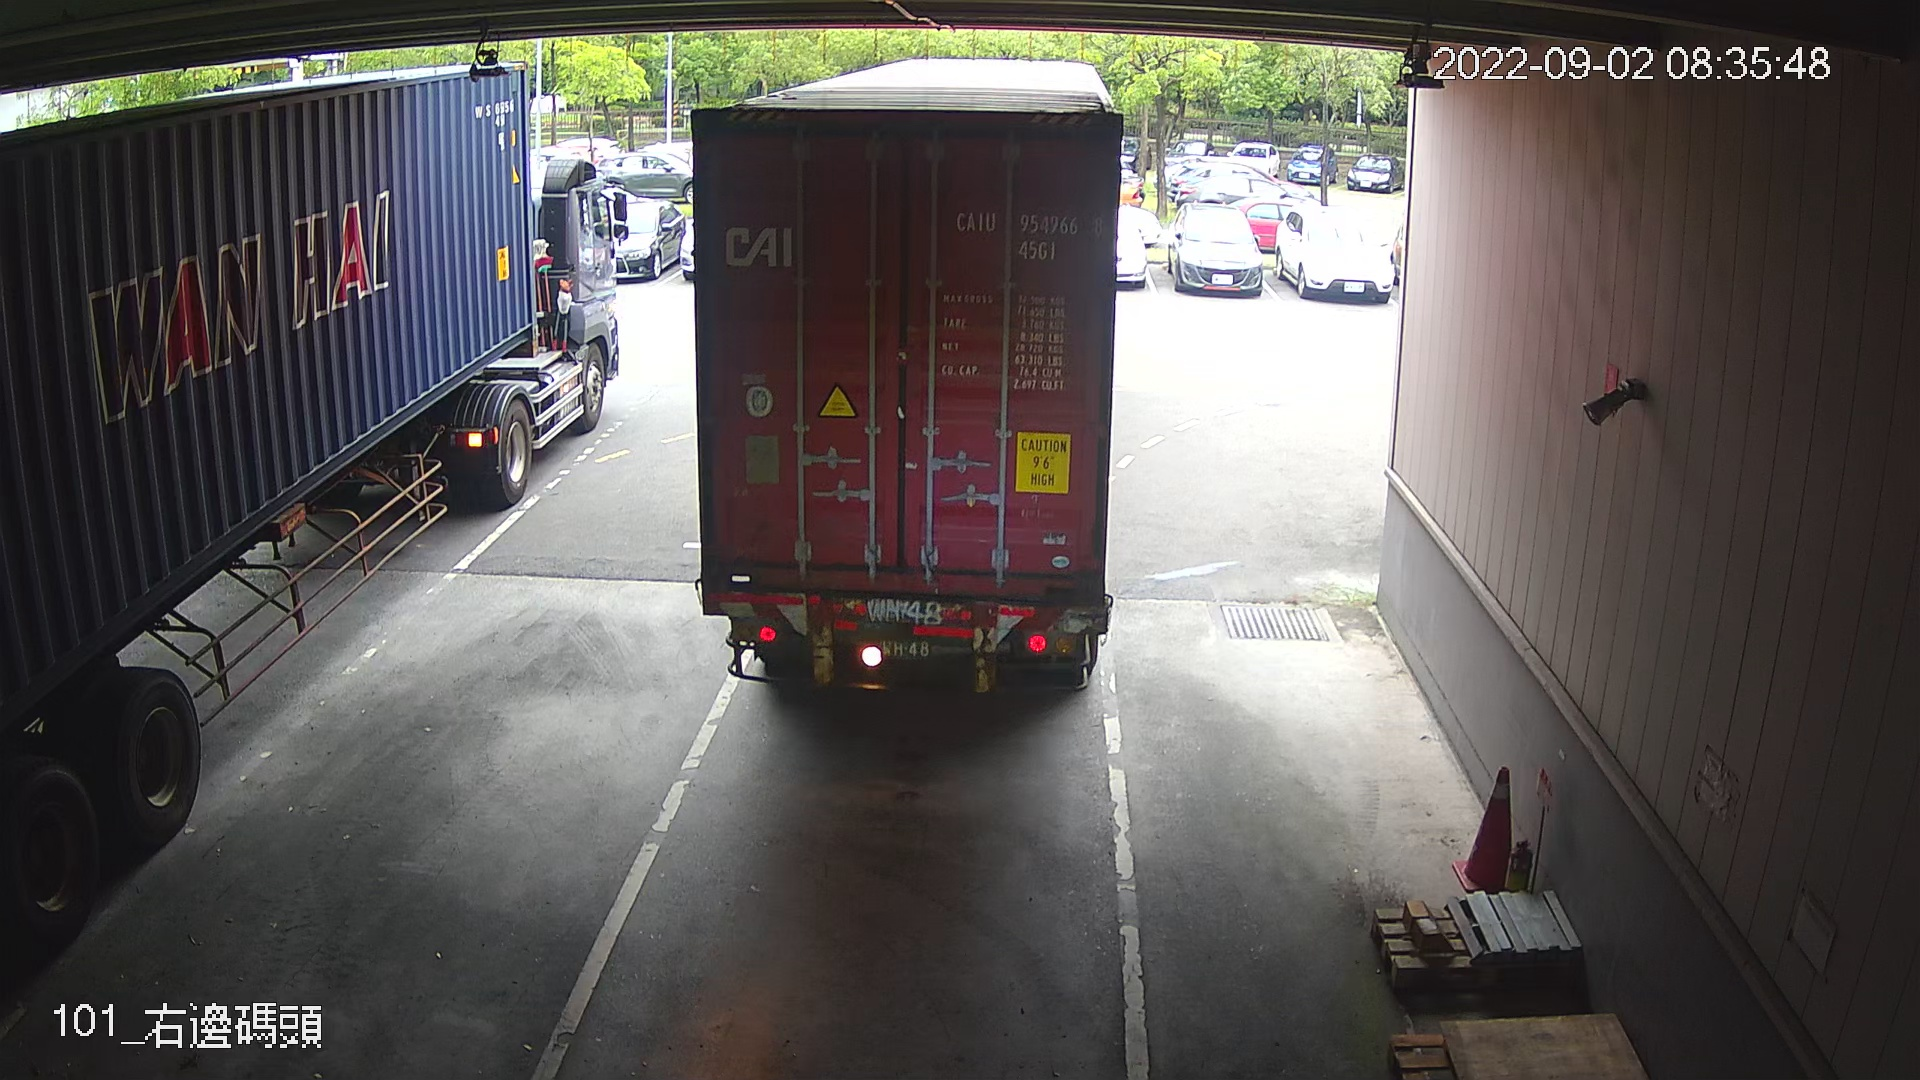container: (944, 200, 1106, 268)
